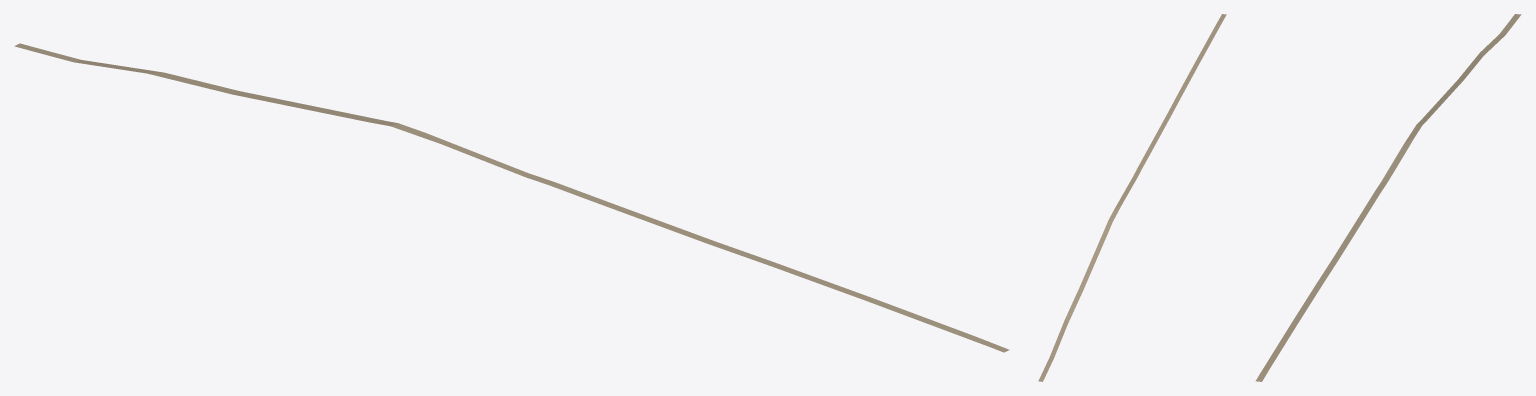
The model's file is farm_0_14_track.glb.
3 renders of one model, left to right at view 1: azimuth 30°, elevation 25°; view 2: azimuth 150°, elevation 25°; view 3: azimuth 330°, elevation 25°, orthographic. The views are drawn at different scales.
Visible parts, largest first — view 1: geometry_0; view 2: geometry_0; view 3: geometry_0.
Boxes of the visible parts, x1=… form: geometry_0: x1=14, y1=43, x2=1009, y2=352; geometry_0: x1=1038, y1=14, x2=1226, y2=381; geometry_0: x1=1255, y1=14, x2=1521, y2=381.
Bounding box in the file's own units: 147 × 40.24 × 500.
